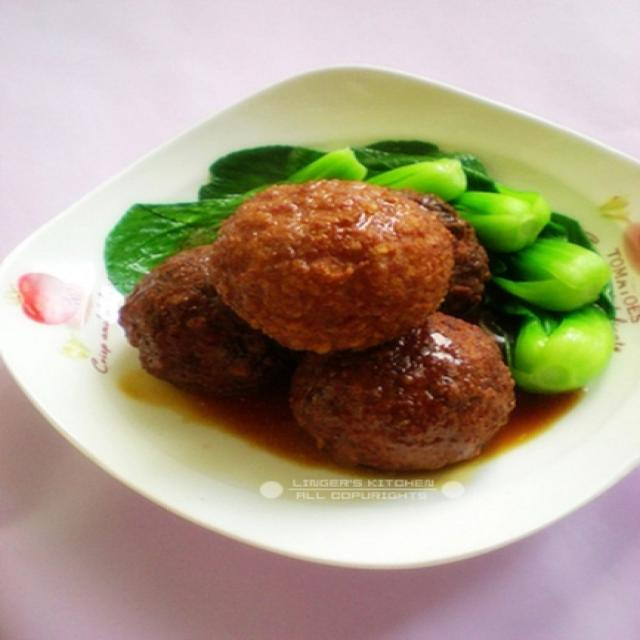Meatball: (204, 174, 461, 355), (278, 304, 526, 476)
